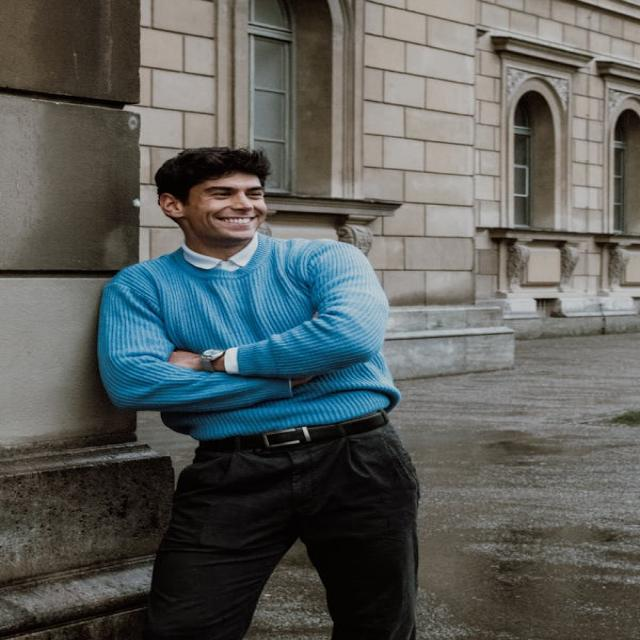Real human 2: (79, 137, 490, 640)
